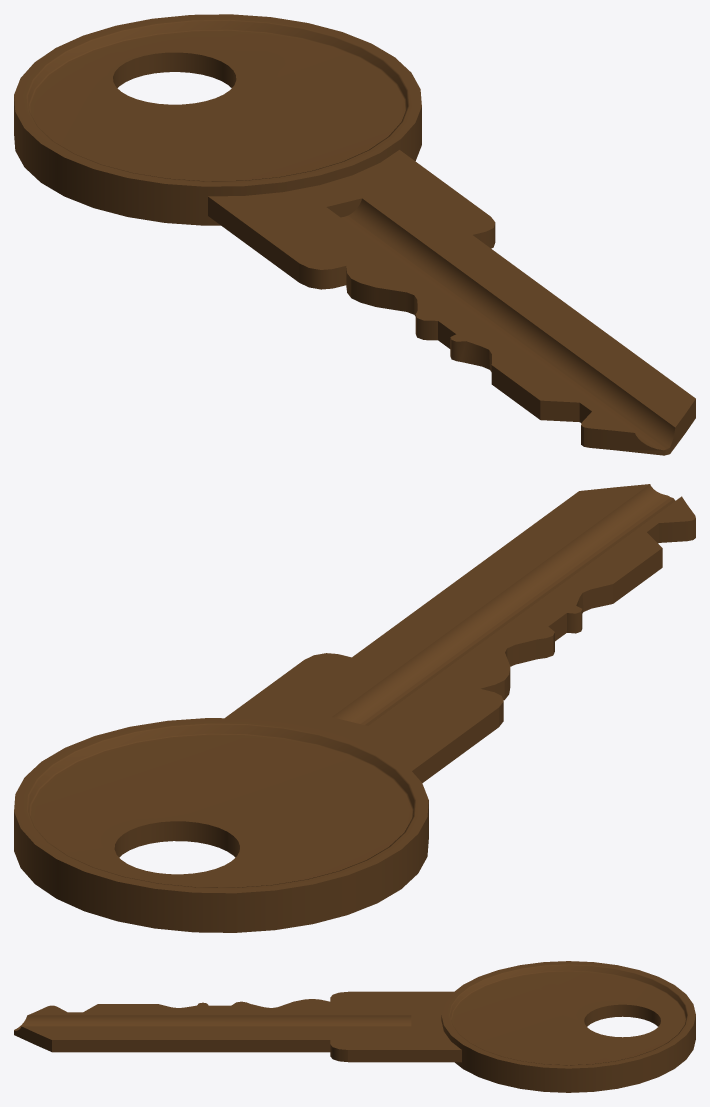
Rendered from key4_brown.fbx.
3 views of the same model, one above another, from view 1: azimuth 30°, elevation 25°; view 2: azimuth 150°, elevation 25°; view 3: azimuth 270°, elevation 25° (orthographic). The views are drawn at different scales.
Parts seen in each view (by area): view 1: key4; view 2: key4; view 3: key4.
Part boxes in pixels (x1,y1,x2,y2): key4: (14,14,695,455); key4: (14,484,695,932); key4: (14,961,695,1092).
Size of the model in its own units: 33.18 by 3.5 by 88.9.
